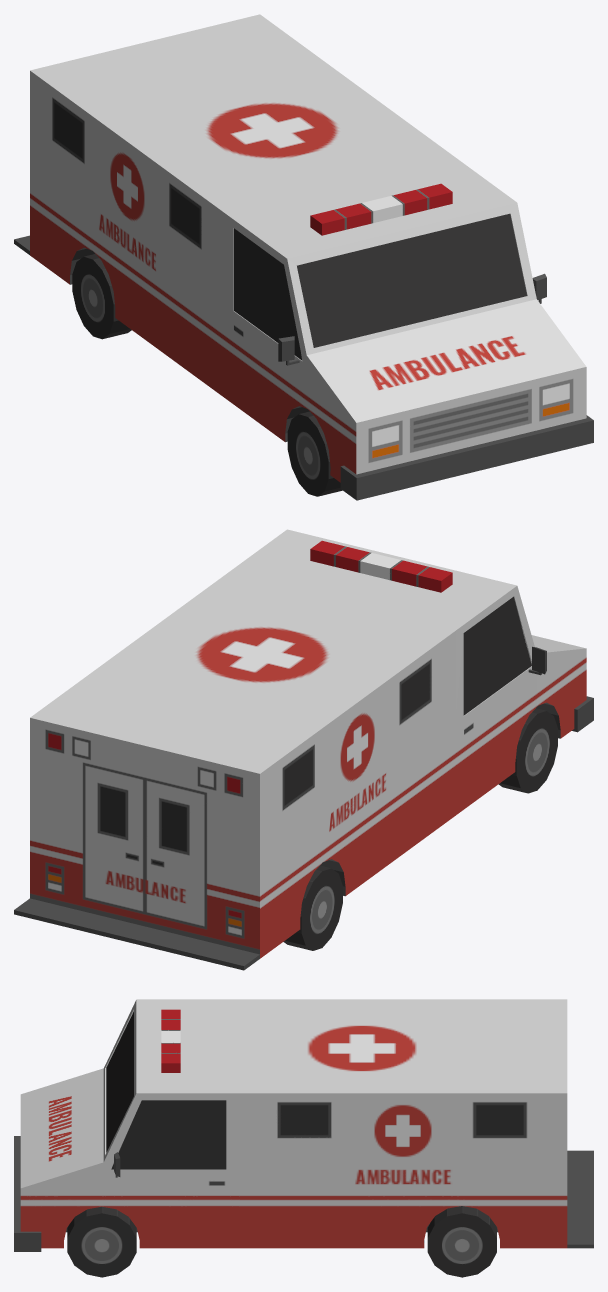
The model's file is Car_Ambulance.glb.
3 renders of one model, top to bottom at view 1: azimuth 30°, elevation 25°; view 2: azimuth 150°, elevation 25°; view 3: azimuth 270°, elevation 25°, orthographic. The views are drawn at different scales.
Parts seen in each view (by area): view 1: Object_191.001; view 2: Object_191.001; view 3: Object_191.001.
Boxes of the visible parts, x1,y1,x2,y2 form: Object_191.001: [14, 14, 593, 500]; Object_191.001: [14, 529, 593, 970]; Object_191.001: [14, 999, 593, 1277].
Size of the model in its own units: 3.41 by 2.84 by 7.68.
Materials: 1 (1 with a texture image).
